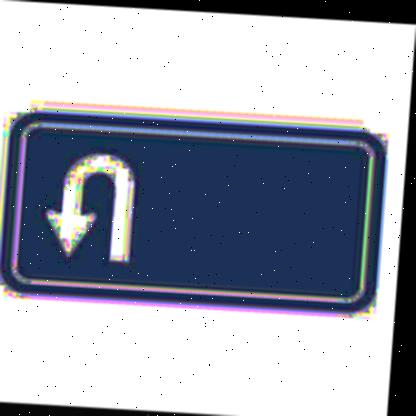U-turn: (20, 122, 163, 289)
